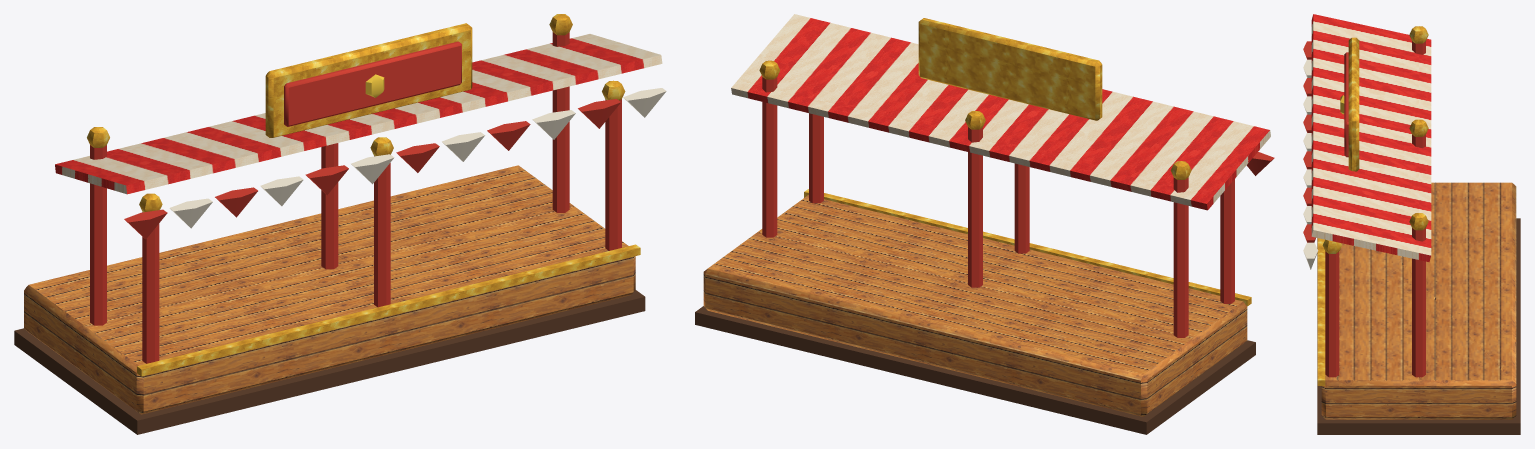
Rendered from station.glb.
The picture shows the model from 3 angles, left to right: view 1: azimuth 30°, elevation 25°; view 2: azimuth 150°, elevation 25°; view 3: azimuth 270°, elevation 25°; orthographic projection. The views are drawn at different scales.
Visible parts, largest first — view 1: station; view 2: station; view 3: station.
Part boxes in pixels (x1,y1,x2,y2): station: [14, 14, 666, 434]; station: [695, 14, 1274, 434]; station: [1303, 14, 1520, 434].
Bounding box in the file's own units: 2.37 × 1.3 × 1.
7 materials, 3 textured.
